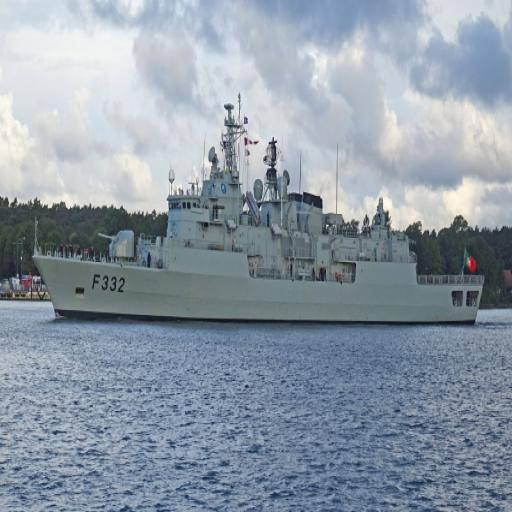Fragata: (31, 91, 486, 328)
